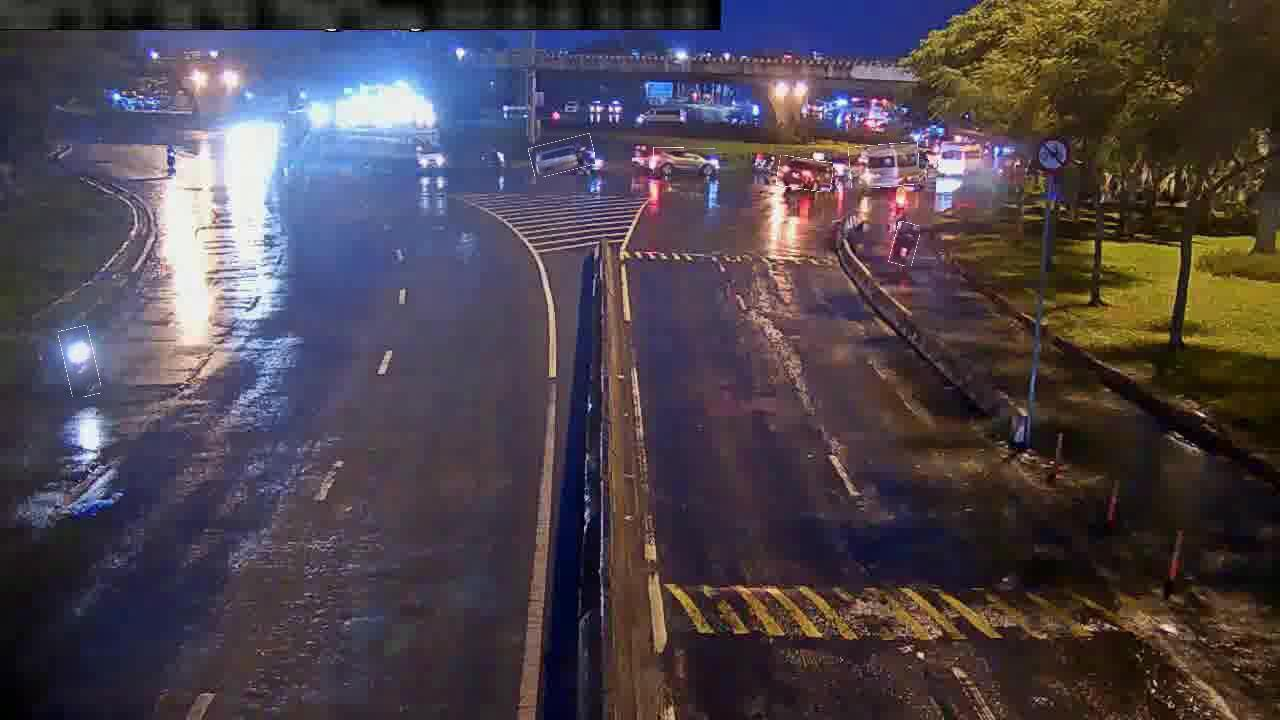14: (849, 144, 920, 188)
container: (530, 137, 595, 175), (777, 157, 833, 191), (653, 148, 716, 175)
motorbike: (62, 326, 99, 397), (891, 222, 919, 266)
